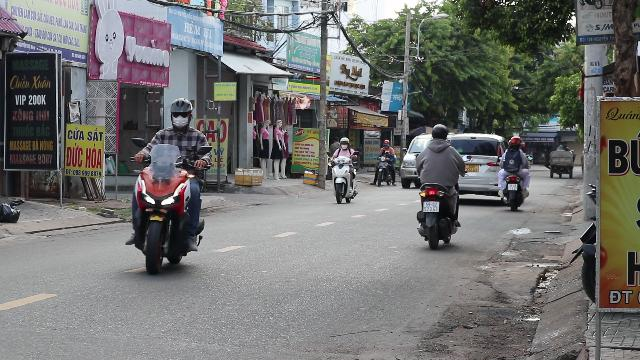helmet: (169, 98, 195, 128), (430, 123, 448, 141)
licenseplate: (423, 202, 439, 212)
motorcyclist: (124, 96, 210, 274), (414, 122, 466, 248)
